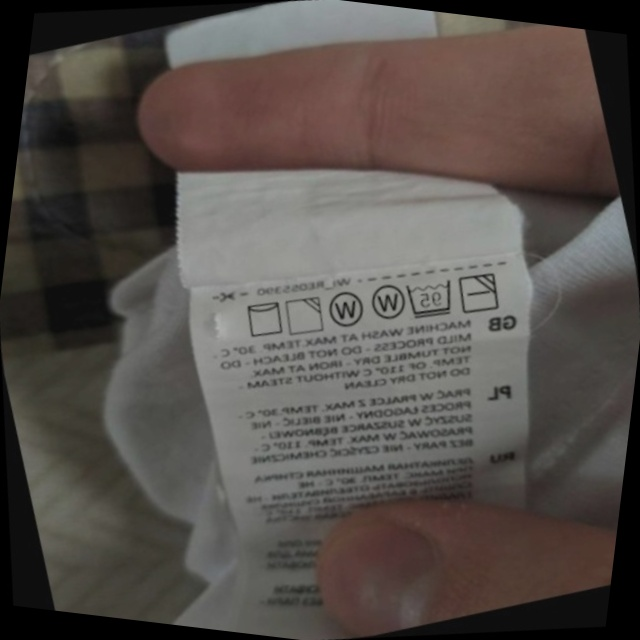95C: (395, 265, 465, 331)
dry_flat_in_shade: (448, 260, 511, 325)
line_dry: (233, 288, 294, 349)
shade_dry: (274, 285, 335, 346)
wet_clean: (358, 271, 416, 331), (317, 280, 375, 340)
